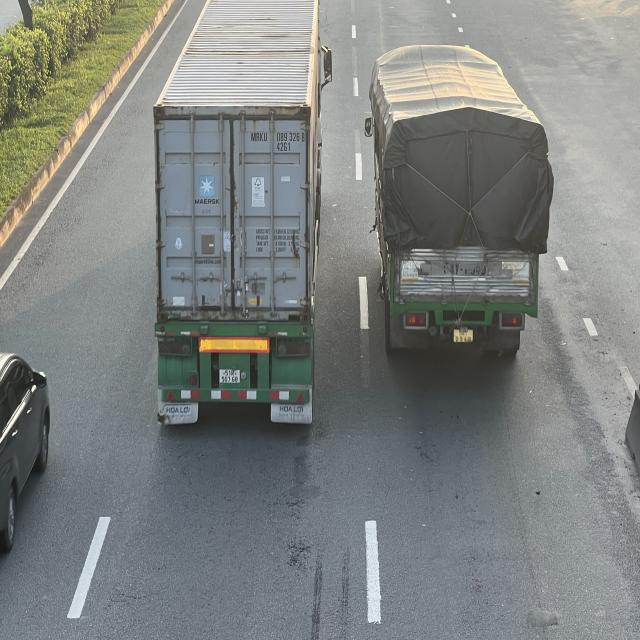car: (0, 350, 51, 546)
container: (155, 0, 334, 417)
truck: (364, 40, 551, 360)
